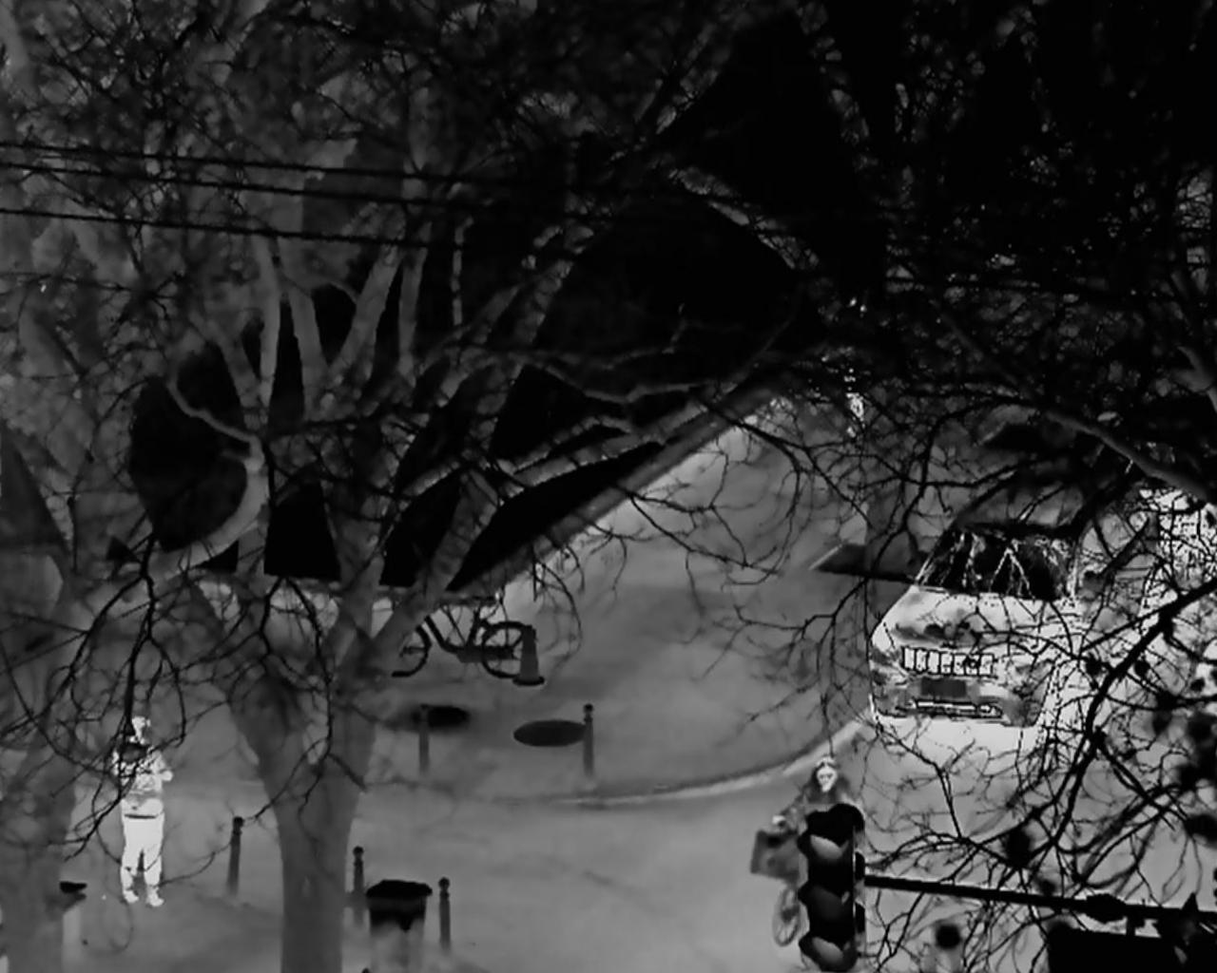person: (110, 713, 174, 907), (771, 756, 867, 830)
